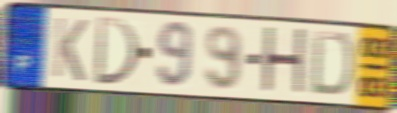9: (155, 19, 194, 93), (203, 23, 243, 93)
D: (91, 14, 143, 89), (308, 28, 356, 100)
H: (259, 24, 309, 100)
K: (50, 14, 90, 84)
